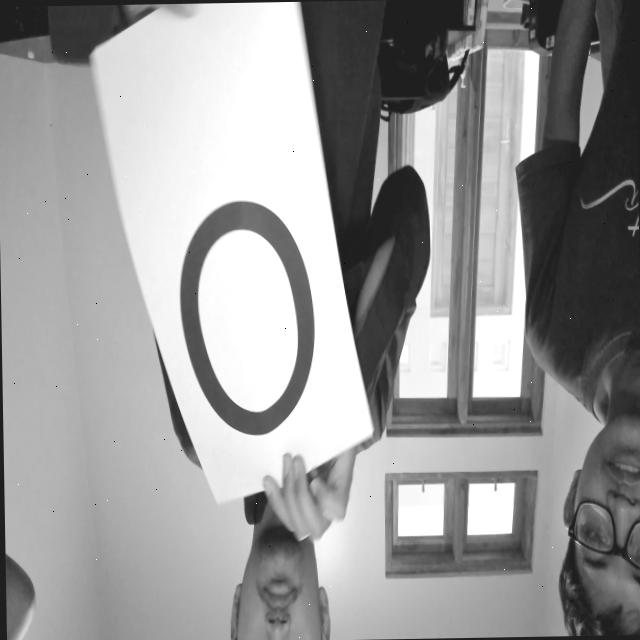o: (140, 202, 350, 466)
